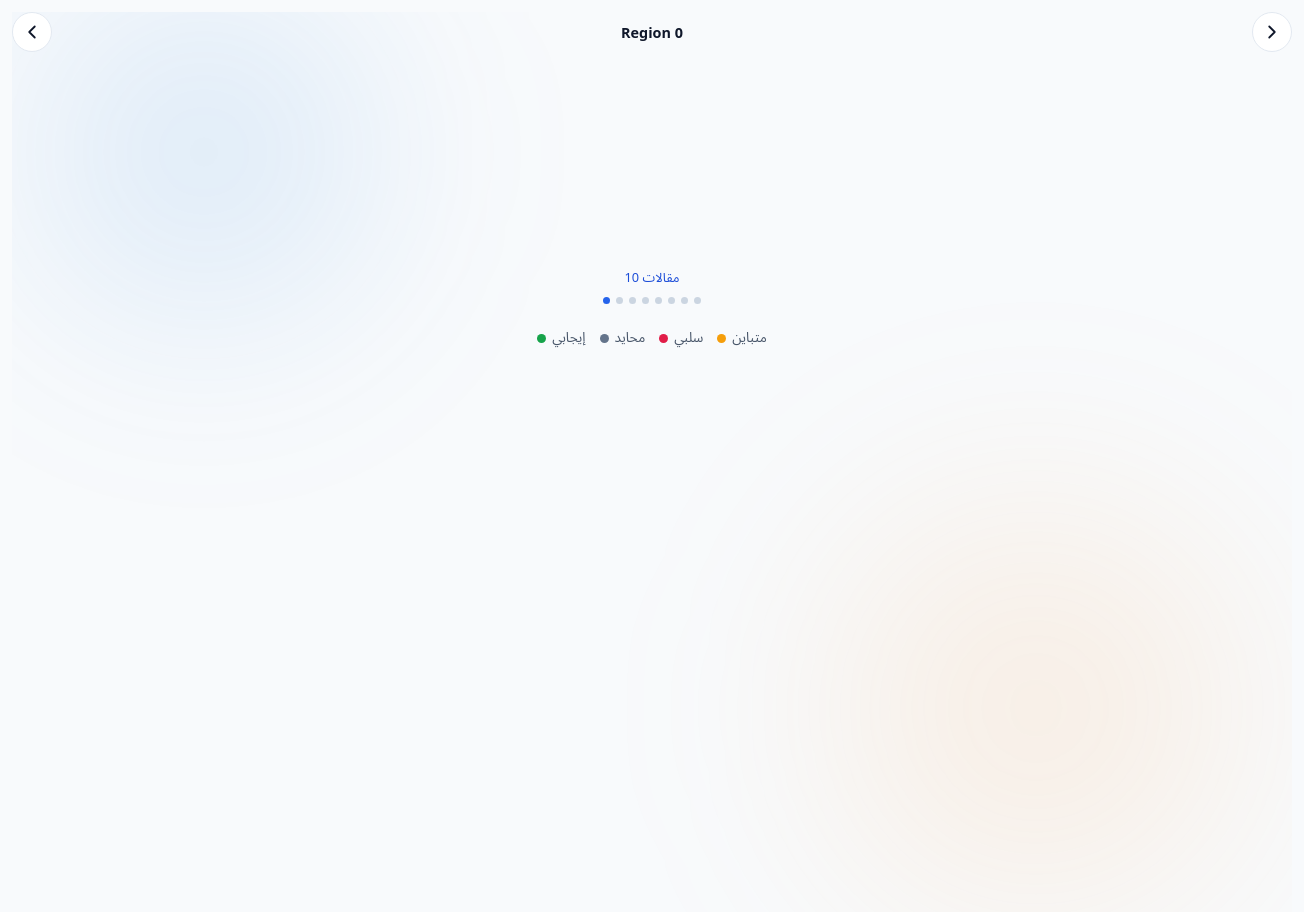
Test: DemographicPieCarousel › labels the folded long tail as Other
What coordinates should you click on to do the following:
click the button named "القيمة السابقة"
I would click on:
 (32, 32)
Its box is x1=12 y1=12 x2=52 y2=52.
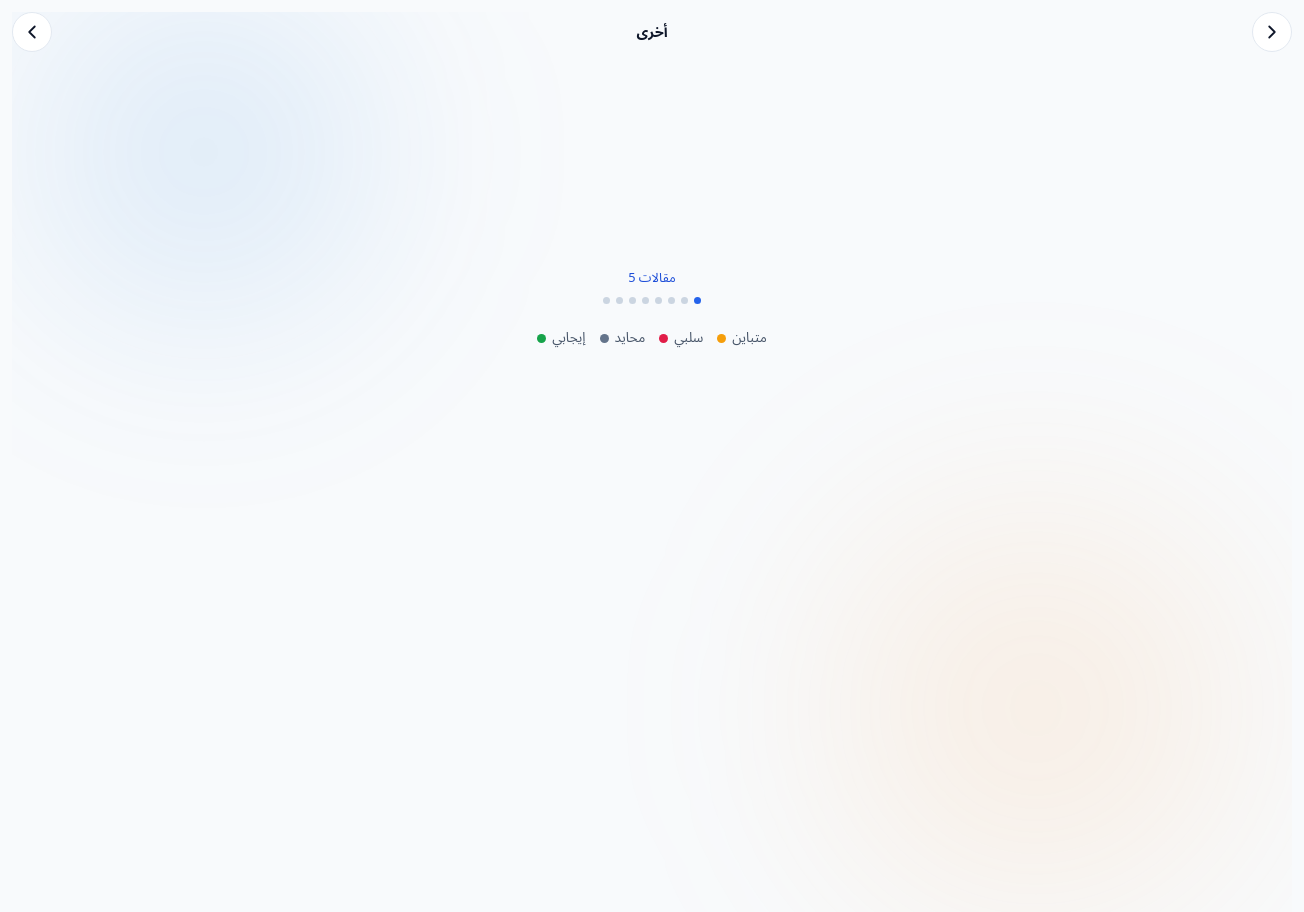
expect the text "أخرى" is shown: met, box x1=636 y1=22 x2=668 y2=40
